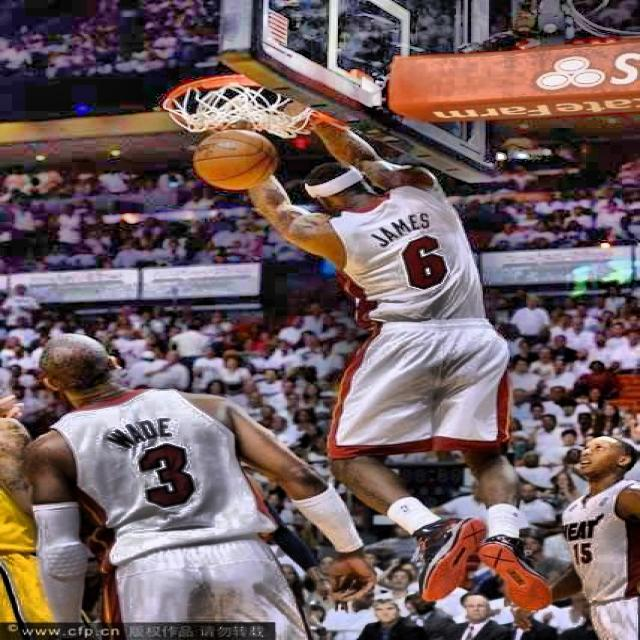rim: (195, 130, 279, 190)
